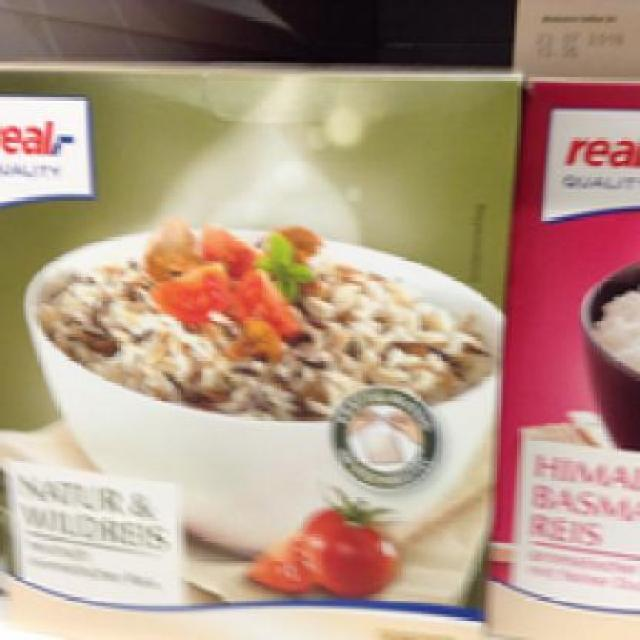Rice: (0, 57, 517, 637), (482, 77, 638, 634)
